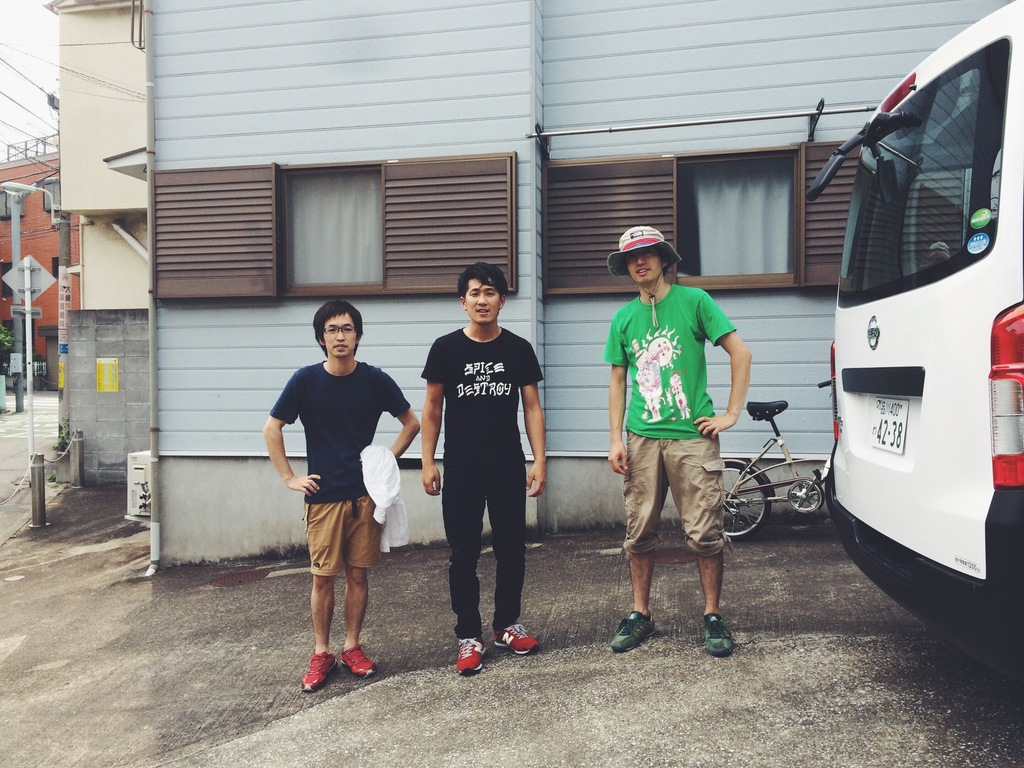Car: (817, 3, 1023, 693)
